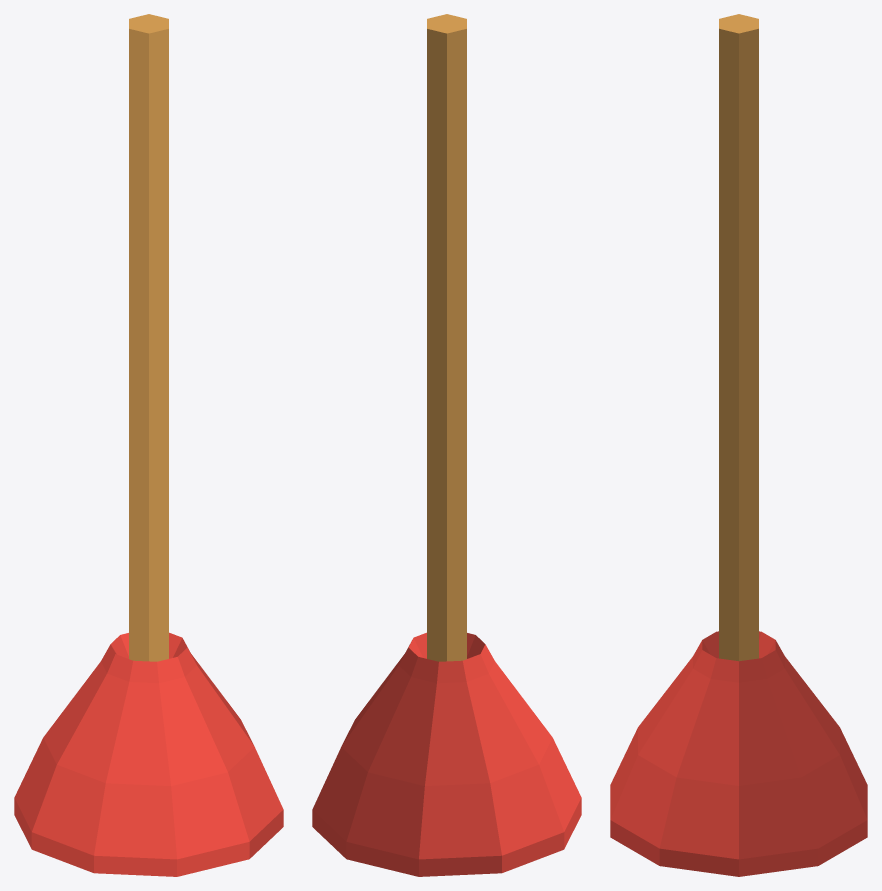
Rendered from 21-plunger.glb.
3 views of the same model, side by side, from view 1: azimuth 30°, elevation 25°; view 2: azimuth 150°, elevation 25°; view 3: azimuth 270°, elevation 25° (orthographic).
Visible parts, largest first — view 1: 21-plunger__HollowSuctionCup, 21-plunger__WoodenHandle; view 2: 21-plunger__HollowSuctionCup, 21-plunger__WoodenHandle; view 3: 21-plunger__HollowSuctionCup, 21-plunger__WoodenHandle.
Boxes of the visible parts, <box> form: 21-plunger__HollowSuctionCup: <box>14,632,283,876</box>; 21-plunger__WoodenHandle: <box>129,14,168,661</box>; 21-plunger__HollowSuctionCup: <box>312,632,581,876</box>; 21-plunger__WoodenHandle: <box>427,14,466,661</box>; 21-plunger__HollowSuctionCup: <box>610,631,867,876</box>; 21-plunger__WoodenHandle: <box>719,14,758,661</box>.
Size of the model in its own units: 0.28 by 0.91 by 0.2663.
